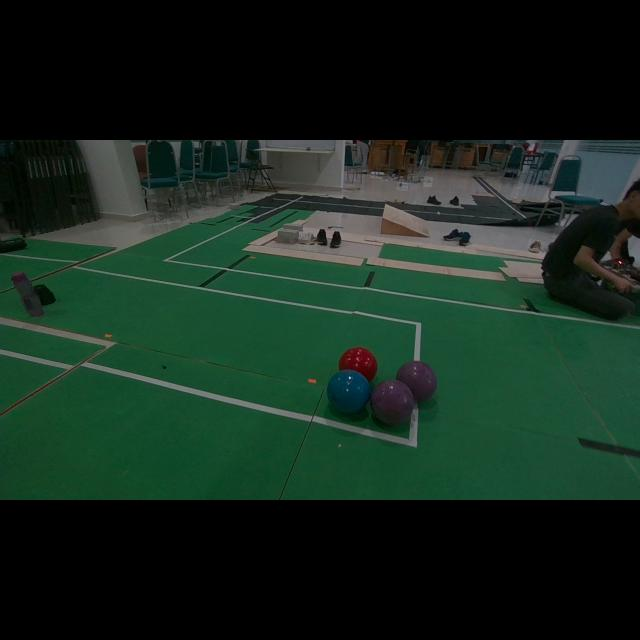B: (326, 370, 371, 414)
P: (371, 381, 414, 425), (396, 362, 436, 402)
R: (339, 346, 378, 381)
